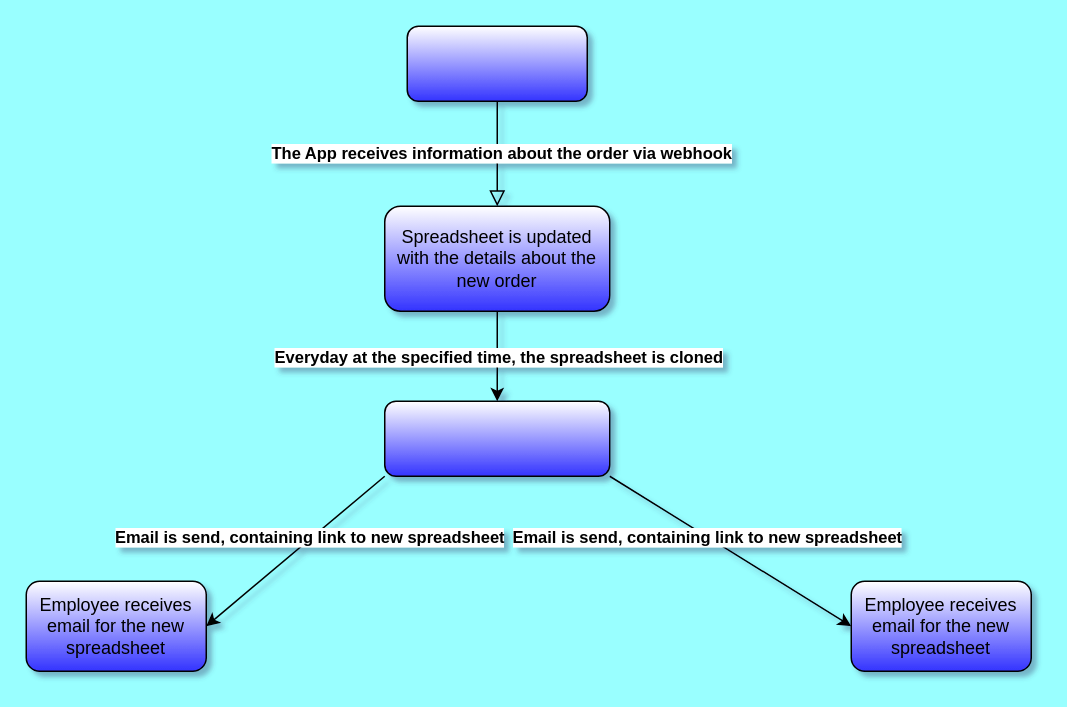
This 1067x707 diagram has some shape labels left out. Here are the shapes that lost their labels. From the top down, the centre of each, then its label:
At (x=496, y=63): "A new order is placed in the WooCommerce website".
At (x=496, y=438): "New spreadsheet is created with new name".
